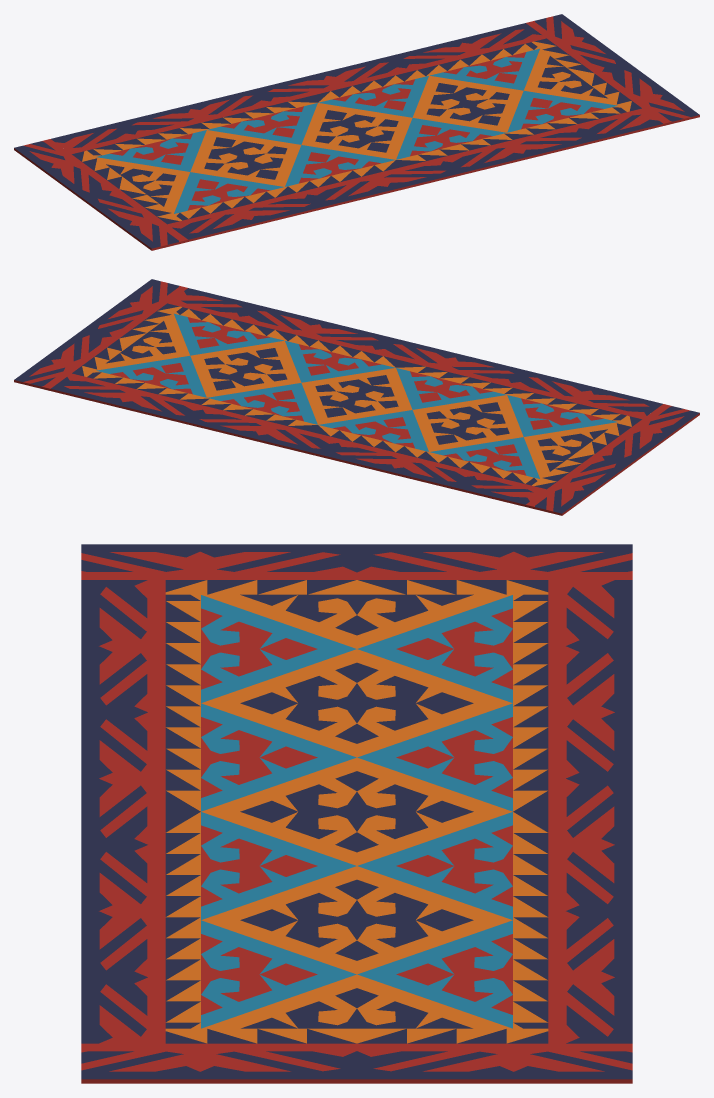
Rendered from Rug.glb.
The picture shows the model from 3 angles, top to bottom: view 1: azimuth 30°, elevation 25°; view 2: azimuth 150°, elevation 25°; view 3: azimuth 270°, elevation 25°; orthographic projection. The views are drawn at different scales.
Parts seen in each view (by area): view 1: Cube.001; view 2: Cube.001; view 3: Cube.001.
Part boxes in pixels (bbox=[...]): Cube.001: bbox=[14, 14, 699, 250]; Cube.001: bbox=[14, 279, 699, 515]; Cube.001: bbox=[81, 544, 632, 1083].
Bounding box in the file's own units: 0.2001 × 0.000776 × 0.0871.
1 material, 1 textured.
